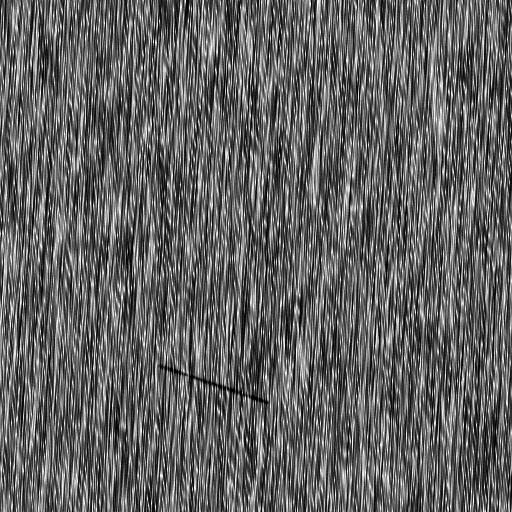DefectTypeC: (155, 362, 268, 405)
